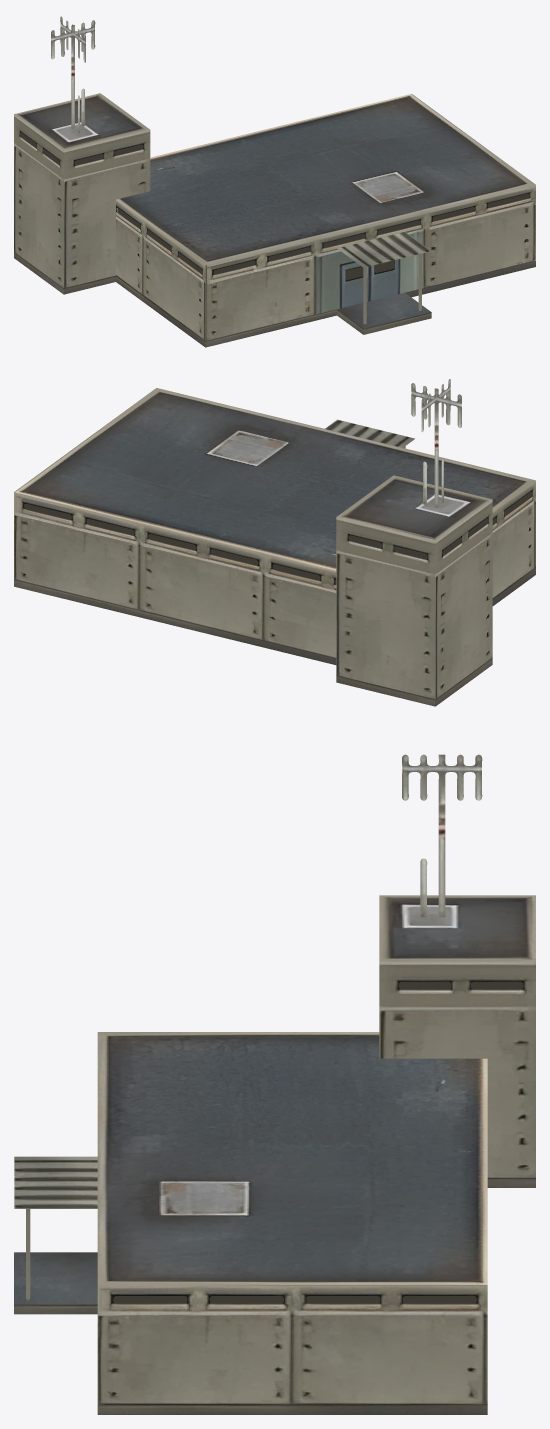
Rendered from genericmilitary_hdtex.glb.
3 renders of one model, top to bottom at view 1: azimuth 30°, elevation 25°; view 2: azimuth 150°, elevation 25°; view 3: azimuth 270°, elevation 25°, orthographic. The views are drawn at different scales.
Visible parts, largest first — view 1: Generic Military, LitWin_GenericMilitary, LOS_Antennae; view 2: Generic Military, LitWin_GenericMilitary, LOS_Antennae; view 3: Generic Military, LOS_Antennae, LitWin_GenericMilitary.
Part boxes in pixels (<box>): Generic Military: <box>14,93,535,347</box>; LitWin_GenericMilitary: <box>20,132,529,280</box>; LOS_Antennae: <box>51,16,95,133</box>; Generic Military: <box>14,388,535,706</box>; LitWin_GenericMilitary: <box>24,491,531,584</box>; LOS_Antennae: <box>411,379,461,507</box>; Generic Military: <box>14,895,535,1414</box>; LOS_Antennae: <box>402,754,482,917</box>; LitWin_GenericMilitary: <box>113,981,523,1303</box>.
Size of the model in its own units: 22.14 by 13.71 by 16.66.
1 material, 1 textured.
